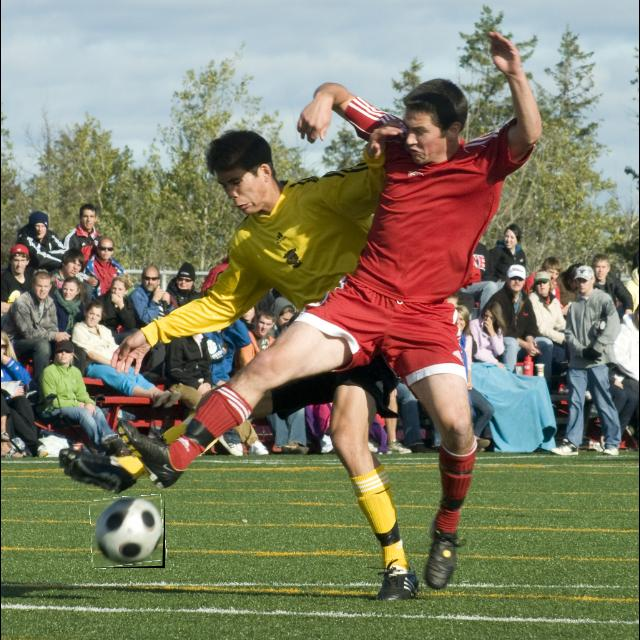Football: (91, 496, 165, 568)
